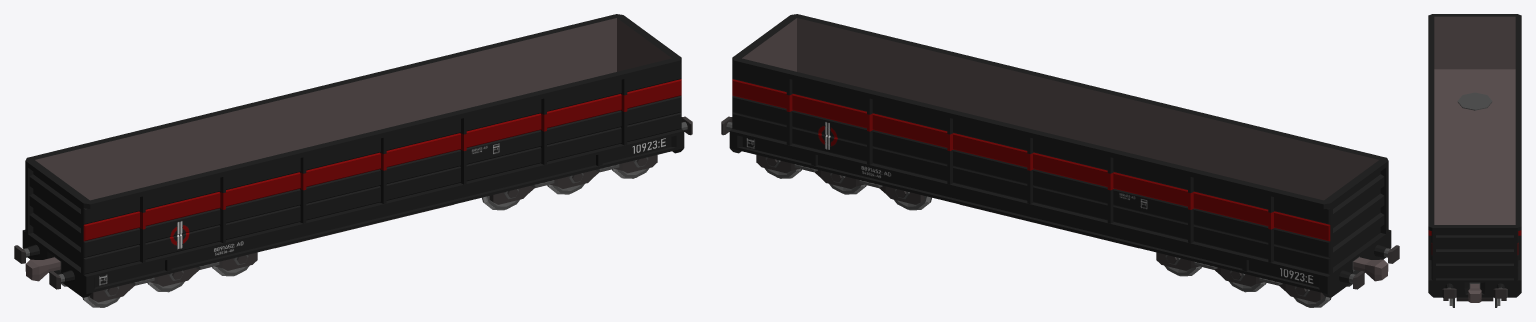
Rendered from train-car-gondola-black-2.glb.
The picture shows the model from 3 angles, left to right: view 1: azimuth 30°, elevation 25°; view 2: azimuth 150°, elevation 25°; view 3: azimuth 270°, elevation 25°; orthographic projection. The views are drawn at different scales.
Visible parts, largest first — view 1: GondolaCar, DriveTruck.002, DriveTruck.001; view 2: GondolaCar, DriveTruck.002, DriveTruck.001; view 3: GondolaCar, DriveTruck.001, DriveTruck.002.
Boxes of the visible parts, x1,y1,x2,y2 form: GondolaCar: [14, 14, 692, 297]; DriveTruck.002: [482, 155, 657, 210]; DriveTruck.001: [61, 252, 257, 307]; GondolaCar: [721, 14, 1399, 297]; DriveTruck.002: [756, 155, 931, 210]; DriveTruck.001: [1156, 252, 1352, 307]; GondolaCar: [1428, 14, 1521, 302]; DriveTruck.001: [1457, 92, 1492, 110]; DriveTruck.002: [1443, 297, 1506, 307].
Bounding box in the file's own units: 17.69 × 3.21 × 3.
1 material, 1 textured.
